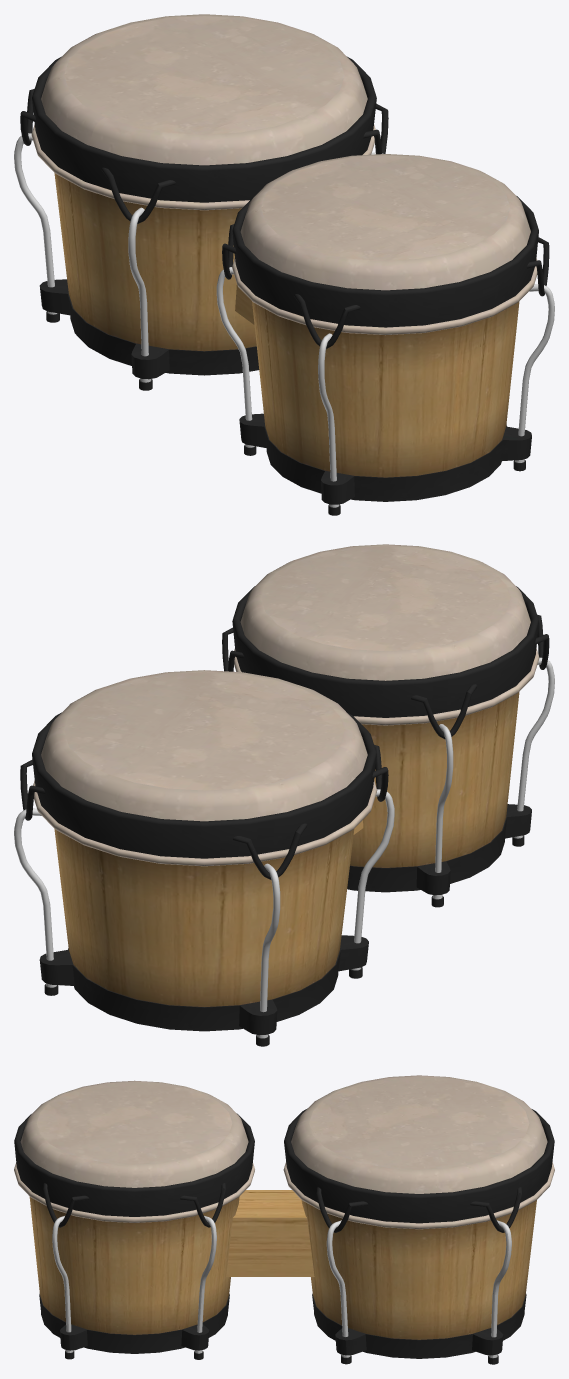
The model's file is bongos.glb.
The picture shows the model from 3 angles, top to bottom: view 1: azimuth 30°, elevation 25°; view 2: azimuth 150°, elevation 25°; view 3: azimuth 270°, elevation 25°; orthographic projection. The views are drawn at different scales.
Parts seen in each view (by area): view 1: Cube.001_Material_0; view 2: Cube.001_Material_0; view 3: Cube.001_Material_0.
Part boxes in pixels (bbox=[...]): Cube.001_Material_0: bbox=[14, 14, 554, 515]; Cube.001_Material_0: bbox=[14, 544, 554, 1046]; Cube.001_Material_0: bbox=[14, 1075, 554, 1364].
Size of the model in its own units: 16.2 by 13.08 by 32.29.
Materials: 1 (1 with a texture image).
